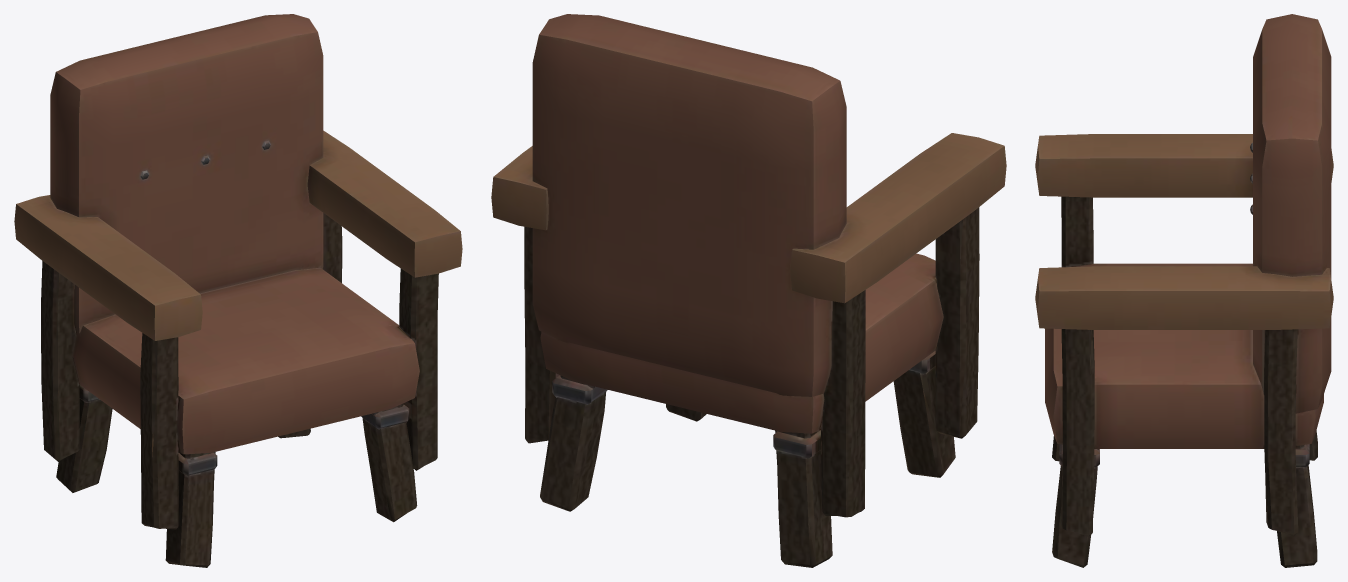
The model's file is armchair.glb.
3 views of the same model, side by side, from view 1: azimuth 30°, elevation 25°; view 2: azimuth 150°, elevation 25°; view 3: azimuth 270°, elevation 25° (orthographic). The views are drawn at different scales.
Visible parts, largest first — view 1: armchair; view 2: armchair; view 3: armchair.
Boxes of the visible parts, x1,y1,x2,y2 form: armchair: (14, 14, 462, 567); armchair: (491, 14, 1006, 567); armchair: (1035, 14, 1333, 567).
Bounding box in the file's own units: 0.77 × 0.9987 × 0.61.
1 material, 1 textured.
